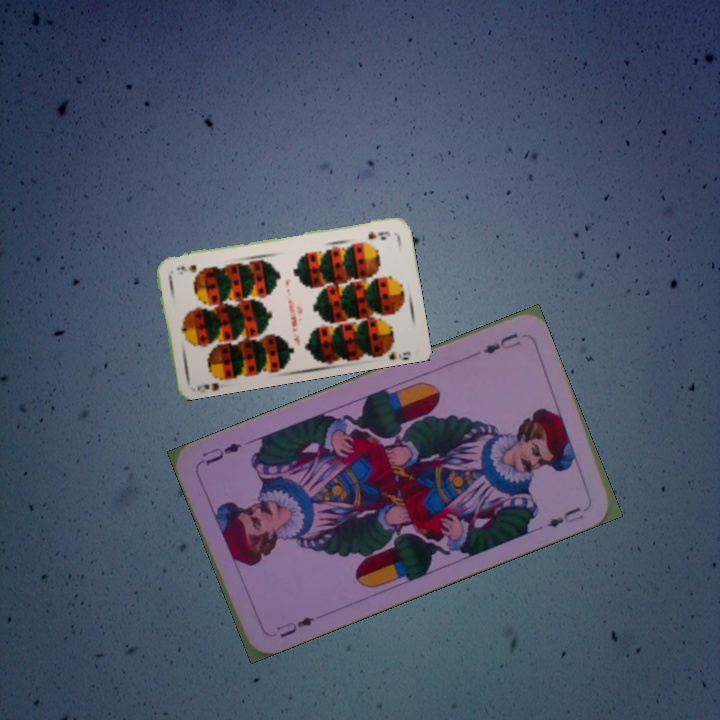EU: (272, 612, 317, 641), (479, 329, 524, 357)
S9: (193, 371, 229, 393), (364, 227, 393, 242)
